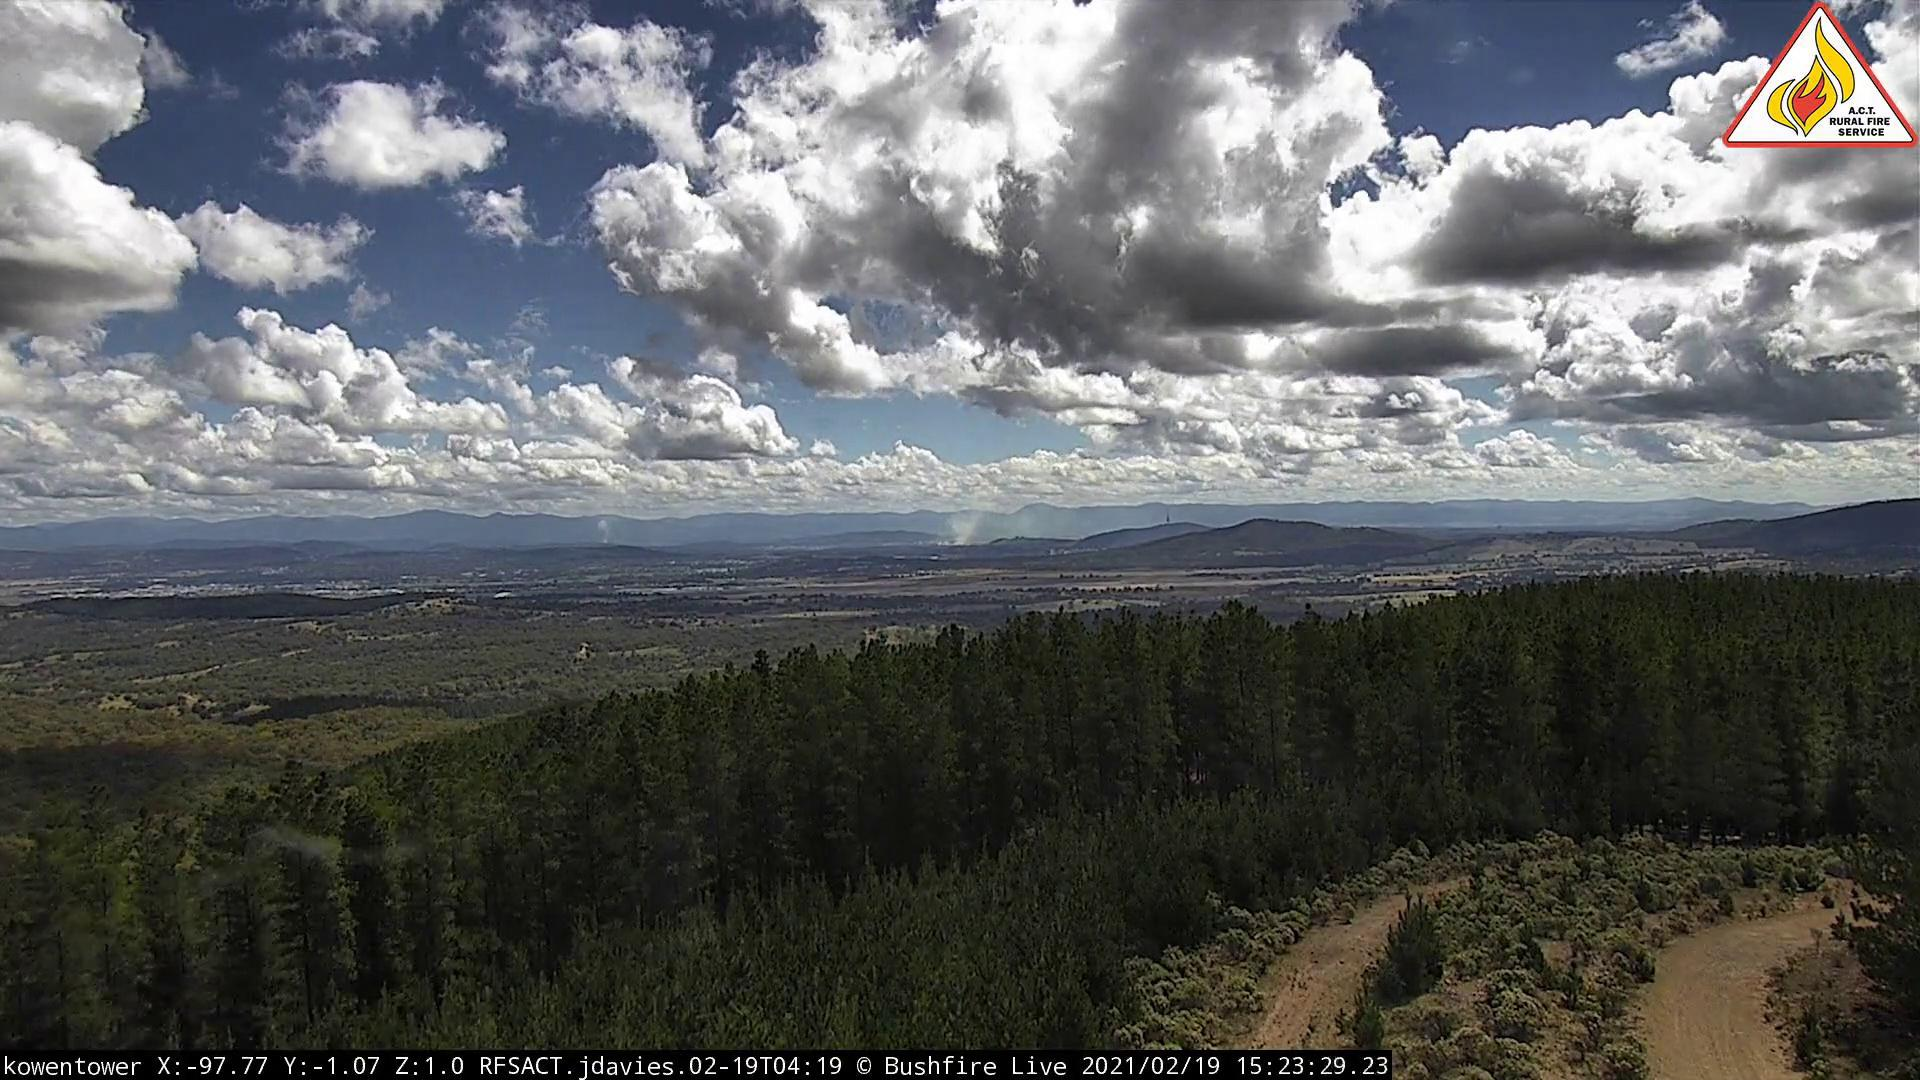Smoke: (930, 508, 992, 551), (587, 516, 620, 551)
